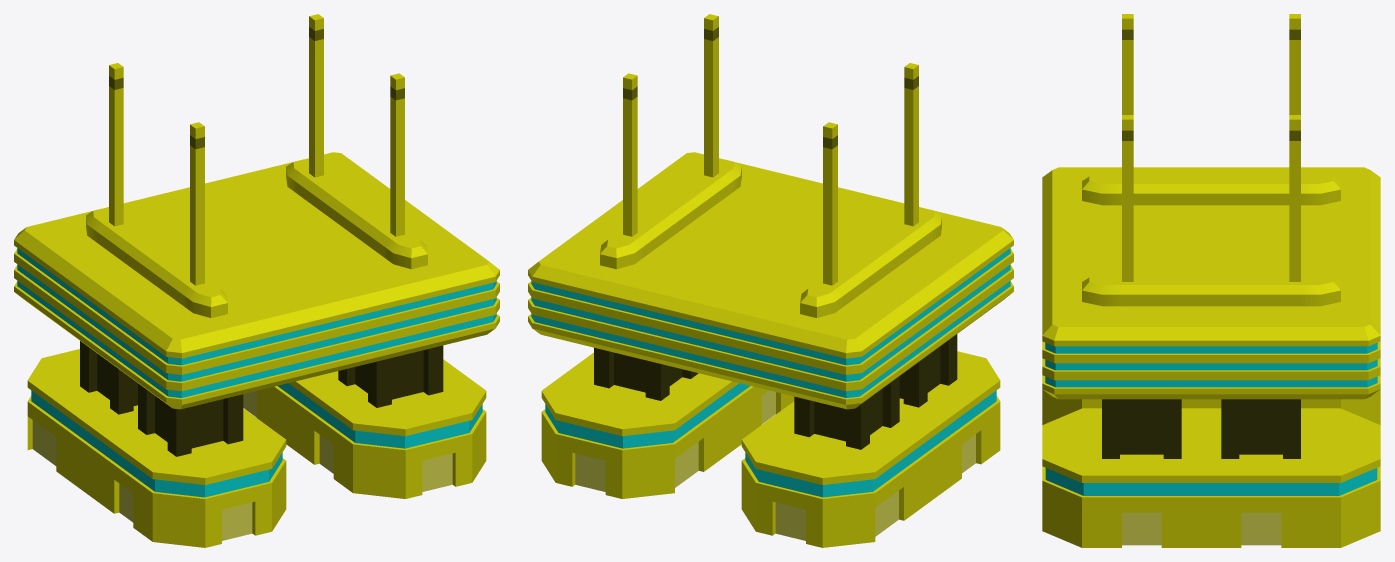
The picture shows the model from 3 angles, left to right: view 1: azimuth 30°, elevation 25°; view 2: azimuth 150°, elevation 25°; view 3: azimuth 270°, elevation 25°; orthographic projection. The views are drawn at different scales.
Visible parts, largest first — view 1: SL457; view 2: SL457; view 3: SL457.
Boxes of the visible parts, x1,y1,x2,y2 form: SL457: [14, 14, 499, 547]; SL457: [528, 14, 1013, 547]; SL457: [1042, 14, 1380, 547].
Bounding box in the file's own units: 1.59 × 1.75 × 1.35.
